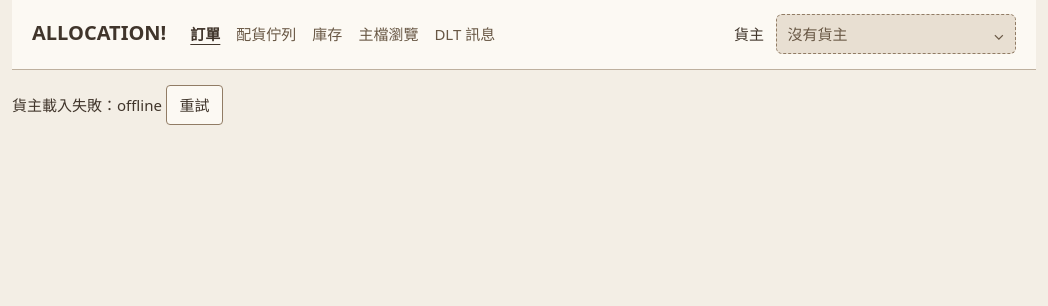
Scenario: ignores a removed saved owner and can recover after owner loading fails
Expected: the message shows "offline", x1=117 y1=94 x2=162 y2=114
What coordinates should you click on to do the following:
click the button "重試"
I would click on:
 (195, 105)
Its box is x1=166 y1=85 x2=223 y2=125.
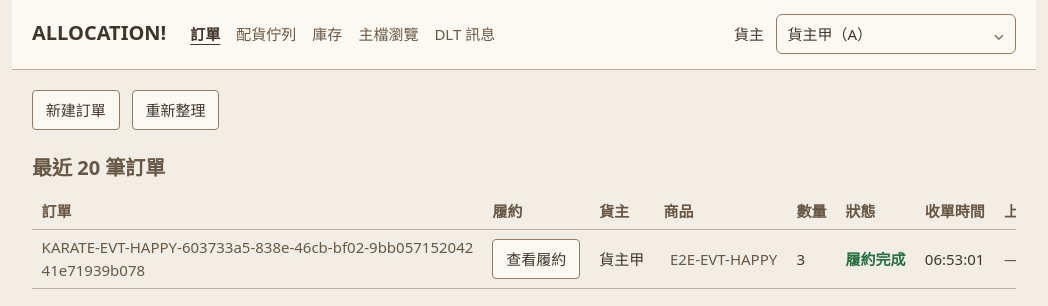
Expected: the dropdown named "目前貨主" holds "00000000-0000-0000-0000-000000000001", x1=776 y1=14 x2=1016 y2=54
Now the button "新建訂單" is shown, box x1=32 y1=90 x2=120 y2=130
